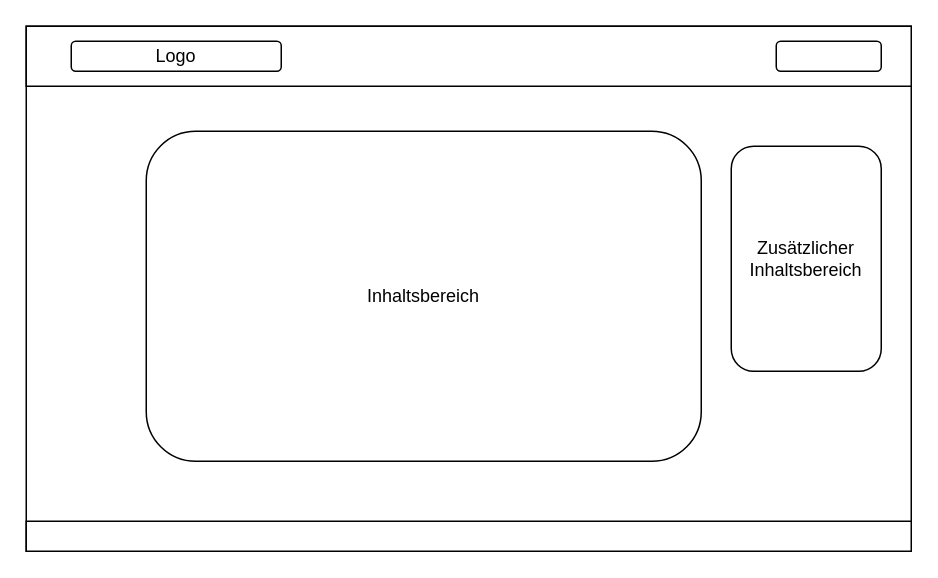
This 938x578 diagram has some shape labels left out. The shapes that lost their labels are listed below. From the top down, each one's box as (x1, y1, x2, y2) in pixels, then its label:
(775, 40, 881, 71): Nav
(25, 520, 911, 551): Footer
